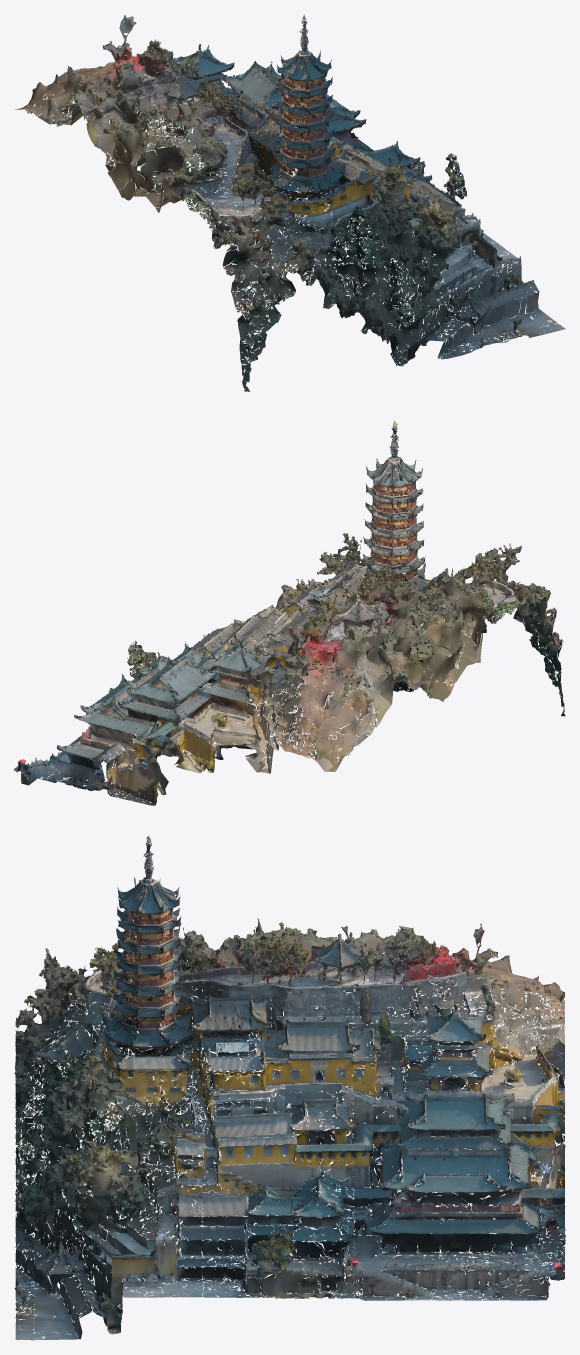
File: jinshan.glb
3 views of the same model, one above another, from view 1: azimuth 30°, elevation 25°; view 2: azimuth 150°, elevation 25°; view 3: azimuth 270°, elevation 25° (orthographic). The views are drawn at different scales.
Parts seen in each view (by area): view 1: Object_2; view 2: Object_2; view 3: Object_2.
Boxes of the visible parts, x1,y1,x2,y2 form: Object_2: (15,14,565,391); Object_2: (14,421,565,805); Object_2: (14,835,565,1340).
Bounding box in the file's own units: 330 × 317 × 409.
1 material, 1 textured.
